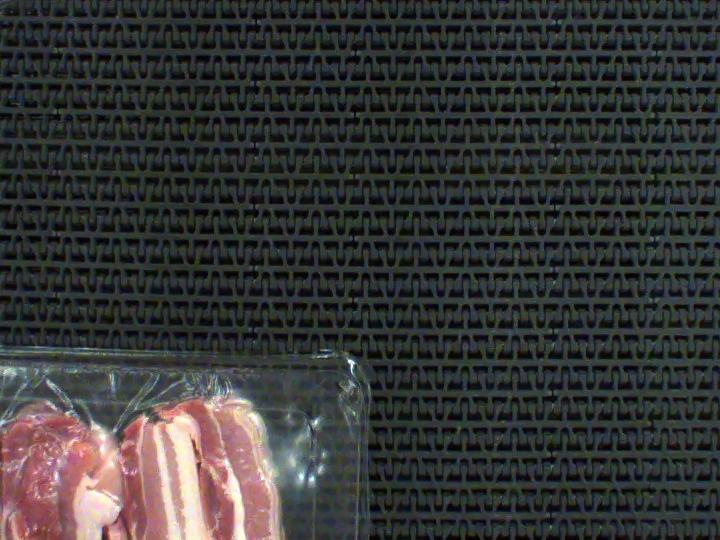unsealed: (0, 378, 328, 540)
